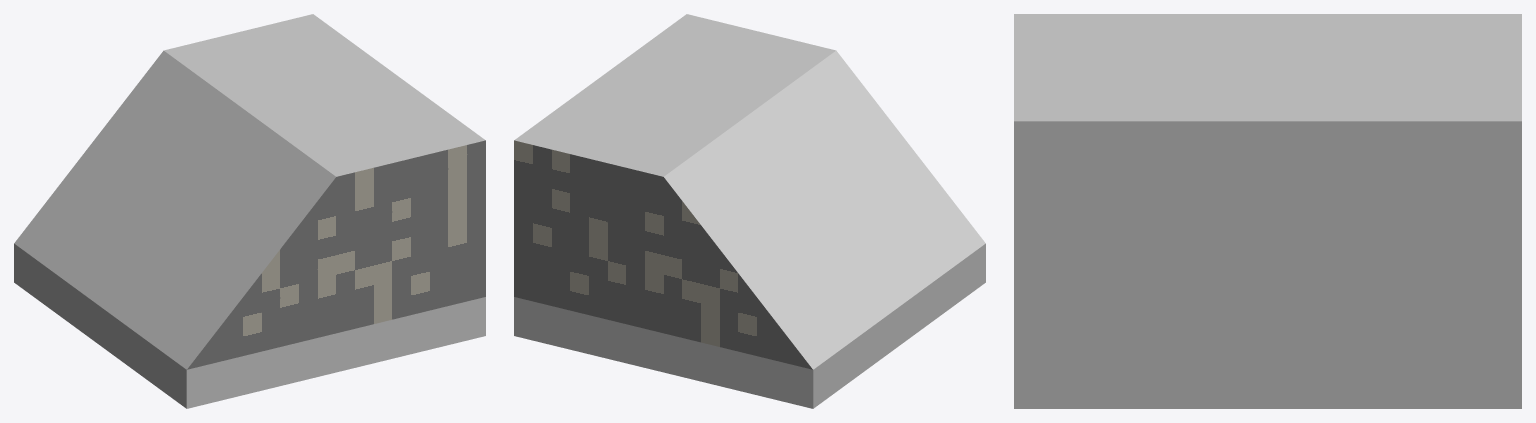
The model's file is slope100_shave8_base2.obj.
The picture shows the model from 3 angles, left to right: view 1: azimuth 30°, elevation 25°; view 2: azimuth 150°, elevation 25°; view 3: azimuth 270°, elevation 25°; orthographic projection. The views are drawn at different scales.
Size of the model in its own units: 1 by 0.625 by 1.
